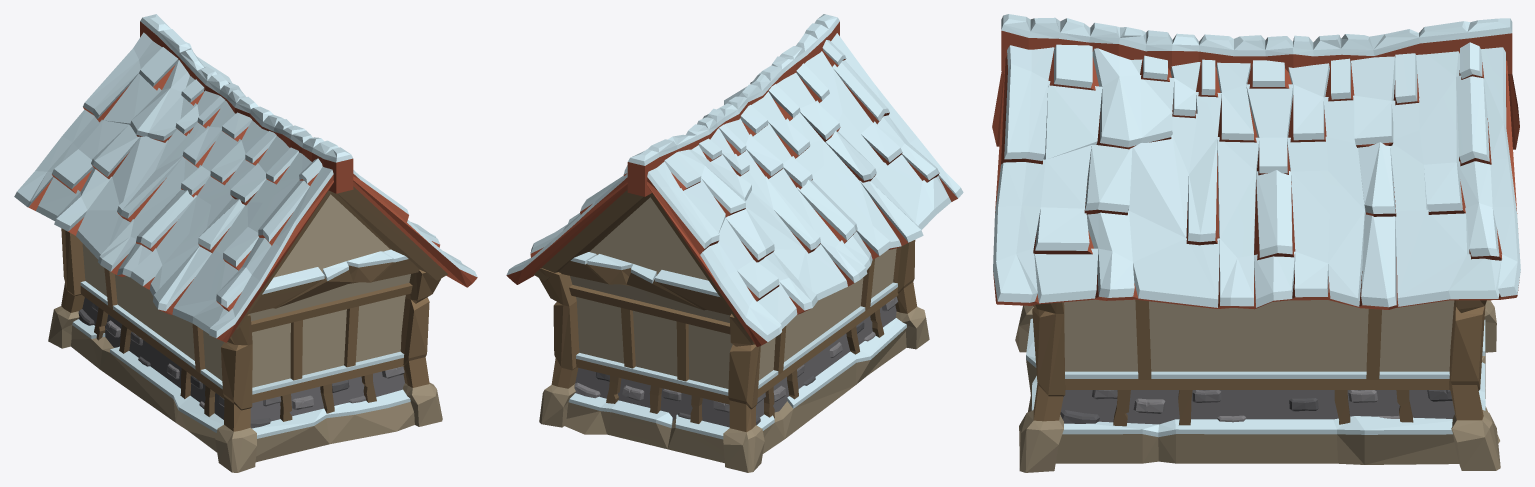
The model's file is SM_Bld_House_Room_07_Snow.gltf.
3 renders of one model, left to right at view 1: azimuth 30°, elevation 25°; view 2: azimuth 150°, elevation 25°; view 3: azimuth 270°, elevation 25°, orthographic. The views are drawn at different scales.
Visible parts, largest first — view 1: SM_Bld_House_Room_07_Snow; view 2: SM_Bld_House_Room_07_Snow; view 3: SM_Bld_House_Room_07_Snow.
Part boxes in pixels (x1=…): SM_Bld_House_Room_07_Snow: x1=14, y1=14, x2=477, y2=472; SM_Bld_House_Room_07_Snow: x1=506, y1=14, x2=963, y2=472; SM_Bld_House_Room_07_Snow: x1=992, y1=14, x2=1520, y2=472.
Size of the model in its own units: 5.04 by 5.16 by 6.38.
1 material, 1 textured.
